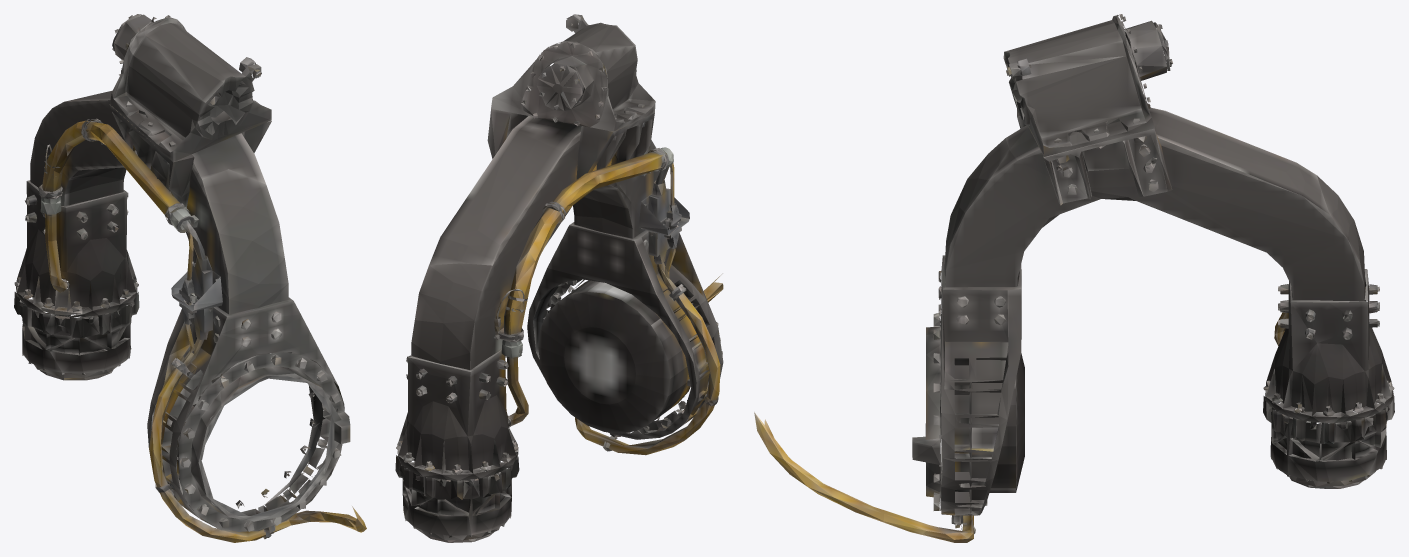
File: Steer_RightFront.gltf
The picture shows the model from 3 angles, left to right: view 1: azimuth 30°, elevation 25°; view 2: azimuth 150°, elevation 25°; view 3: azimuth 270°, elevation 25°; orthographic projection. The views are drawn at different scales.
Parts seen in each view (by area): view 1: Mesh_0; view 2: Mesh_0; view 3: Mesh_0.
Boxes of the visible parts, <box> form: Mesh_0: <box>14,14,366,542</box>; Mesh_0: <box>395,14,723,542</box>; Mesh_0: <box>754,14,1394,542</box>.
Size of the model in its own units: 0.2214 by 0.5578 by 0.6462.
Materials: 1 (1 with a texture image).
